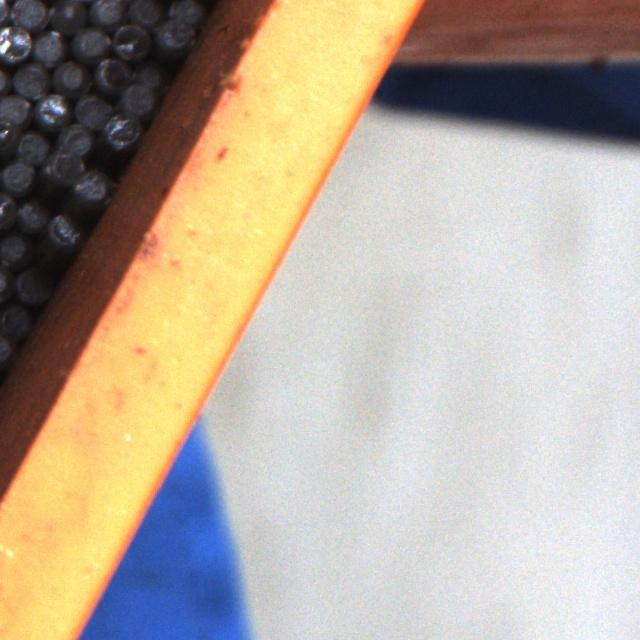tool: (153, 12, 194, 52), (100, 112, 140, 151), (71, 165, 110, 203), (55, 122, 94, 160), (14, 265, 52, 304), (110, 21, 150, 58), (32, 90, 70, 128), (72, 21, 110, 59), (44, 212, 82, 250), (118, 78, 158, 114), (30, 26, 67, 64), (50, 57, 88, 94), (12, 60, 49, 98), (38, 154, 75, 192), (90, 54, 129, 90), (0, 156, 36, 194), (74, 92, 112, 128), (14, 196, 50, 234), (15, 128, 51, 164), (0, 230, 33, 268), (0, 301, 34, 337), (0, 24, 31, 62), (0, 92, 30, 130), (50, 0, 87, 30), (10, 0, 47, 29), (126, 0, 163, 27), (88, 0, 125, 25), (0, 190, 17, 229), (0, 114, 16, 152)
